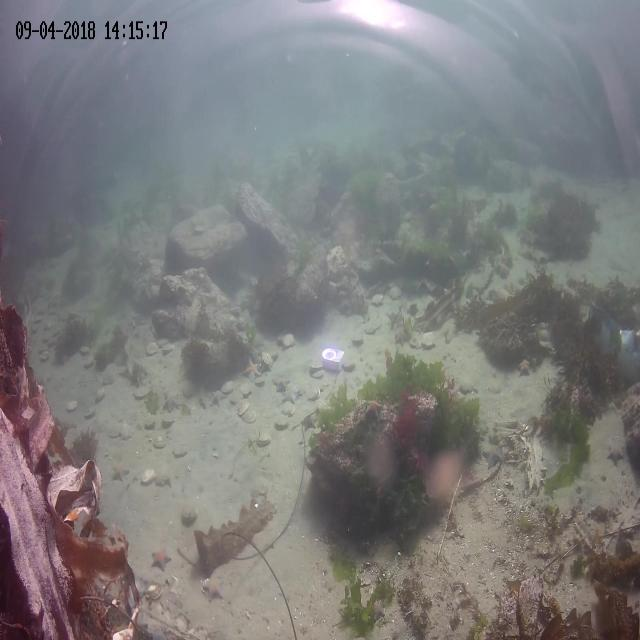scallop: (178, 498, 198, 525), (132, 379, 152, 402), (363, 313, 383, 335), (420, 328, 437, 350), (139, 466, 156, 486), (256, 428, 270, 452), (170, 440, 187, 458), (145, 336, 159, 357), (243, 407, 257, 428), (118, 421, 131, 442), (82, 403, 96, 422), (152, 433, 168, 449), (63, 396, 79, 412), (221, 376, 235, 394), (351, 331, 364, 348), (163, 338, 176, 355), (307, 384, 319, 402), (341, 358, 354, 374), (276, 412, 288, 429), (310, 357, 324, 371), (237, 399, 248, 416), (108, 423, 119, 437), (83, 354, 93, 368), (39, 349, 49, 363), (80, 345, 90, 356)
starfish: (202, 572, 224, 603), (484, 440, 504, 471), (242, 356, 262, 385), (149, 547, 172, 572), (162, 387, 181, 412), (280, 383, 300, 405), (110, 460, 130, 482), (393, 323, 409, 349), (272, 373, 290, 395), (607, 444, 624, 466), (301, 412, 319, 431), (516, 356, 532, 377), (208, 390, 224, 410)
